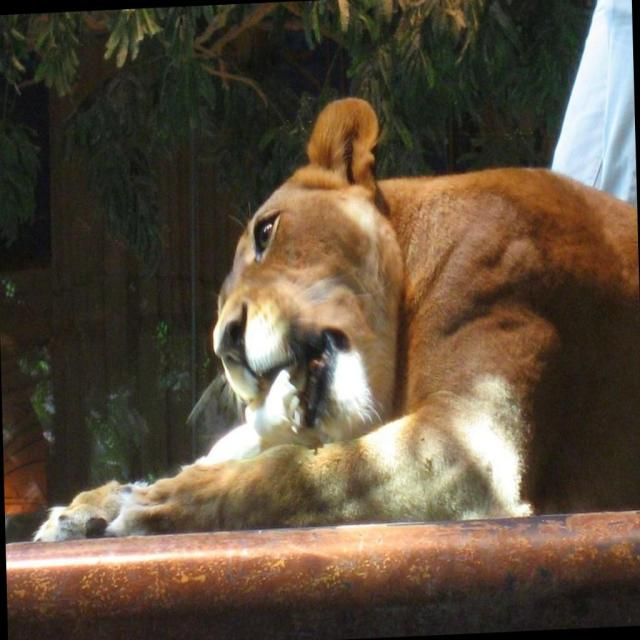Lion: (19, 84, 639, 544)
